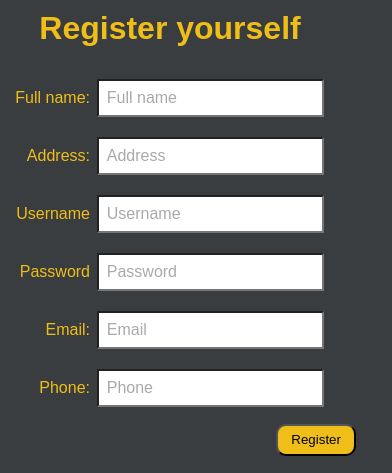
Test: RegisterPage › If username and password is not correct, login status = failed
Click the button with test id "submit" at point(316, 440), box [276, 424, 356, 456]
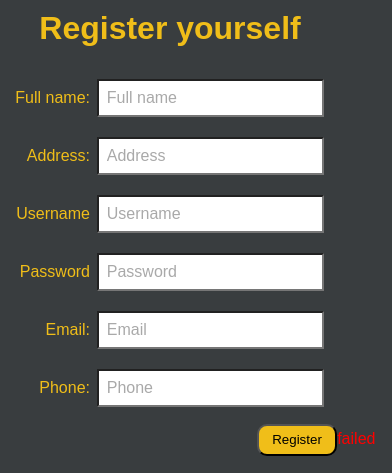
Check: the label with test id "registerStatusField" reads "failed", box [337, 430, 376, 447]
